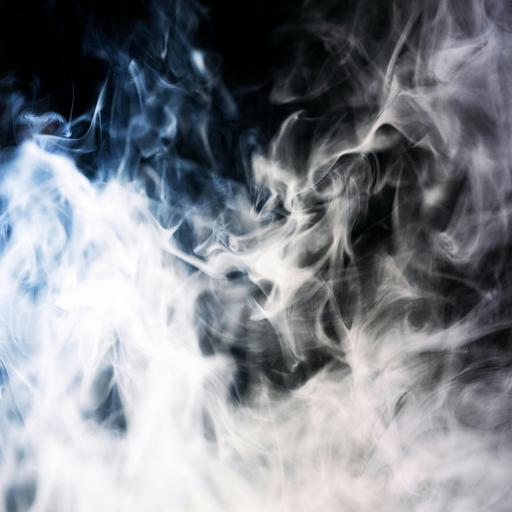smoke: (5, 0, 512, 512)
